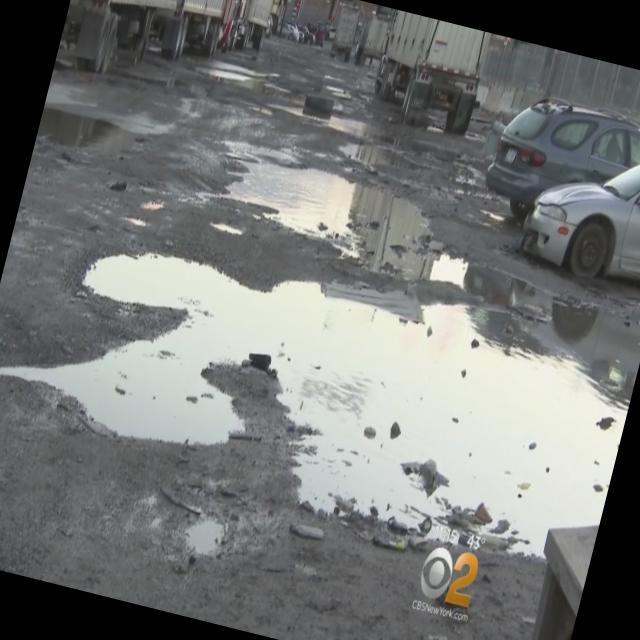Pothole: (0, 198, 640, 628), (194, 125, 564, 326), (32, 78, 175, 184), (124, 180, 178, 222), (201, 219, 253, 243), (117, 206, 153, 233)
